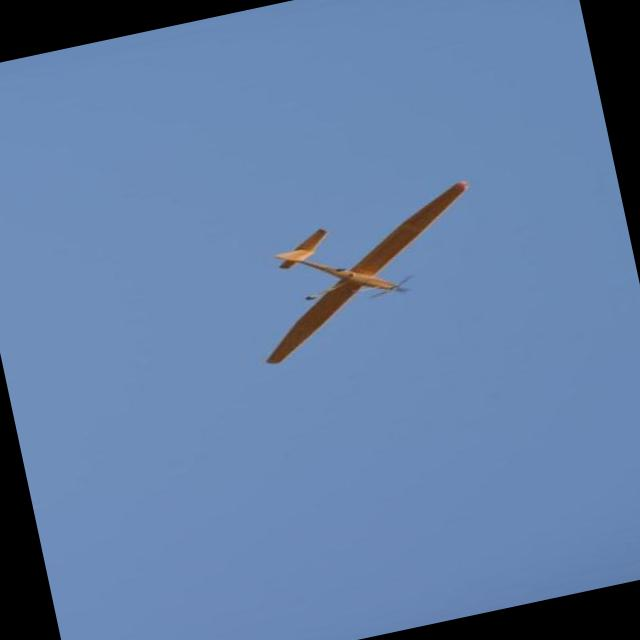UAV: (222, 180, 483, 374)
